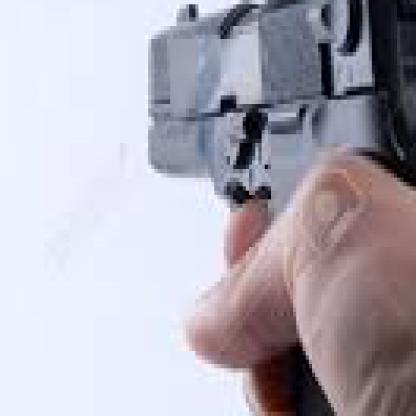gun: (13, 0, 413, 347)
